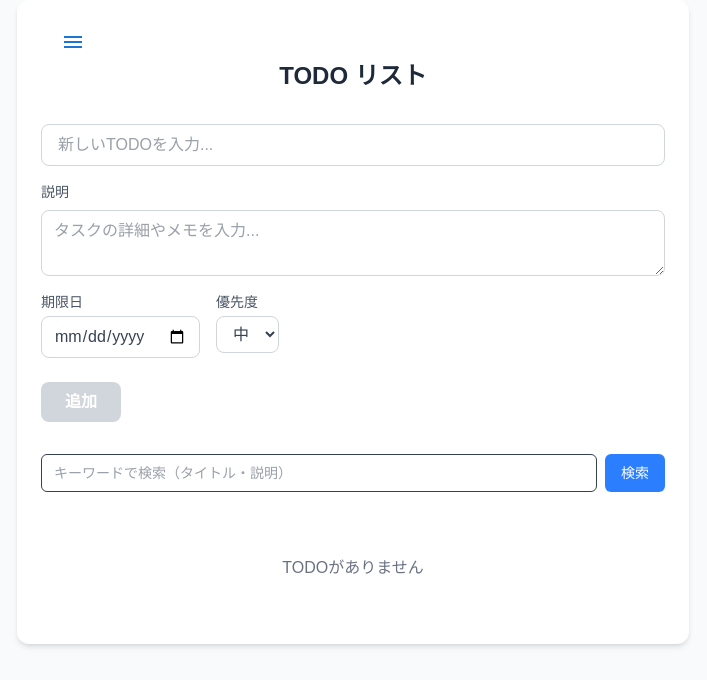
Test: TodoPage 機能要件 › 2. 新規作成: タイトル必須 + 追加時にAPIが呼ばれ一覧に反映される
Expected: the button "追加" is disabled, [41,382,121,422]
タイトル入力で有効化
Type "新しいタスク" into the field with placeholder "新しいTODOを入力..." at [353, 145], box [41,124,665,166]
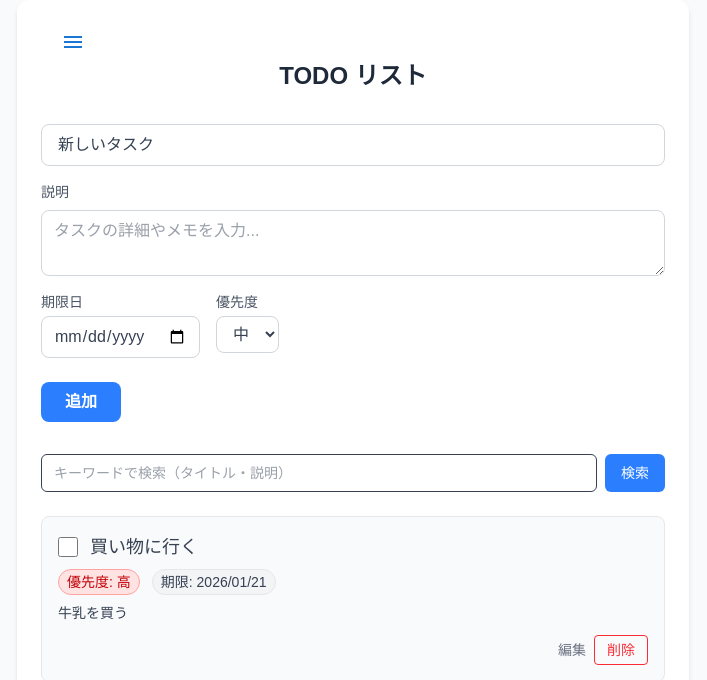
Expected: the button "追加" is enabled
Click the button "追加" at [81, 402], box [41,382,121,422]
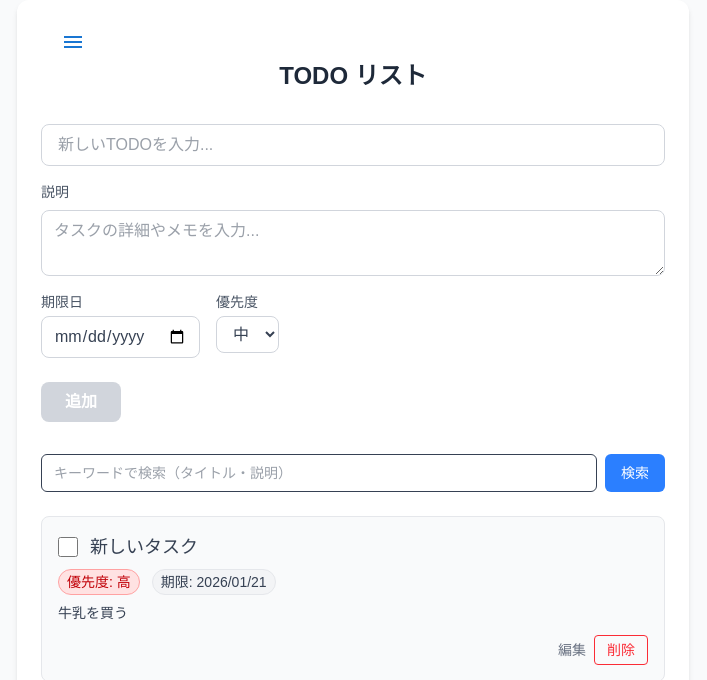
Expected: the text "新しいタスク" is shown, [90,537,198,557]
